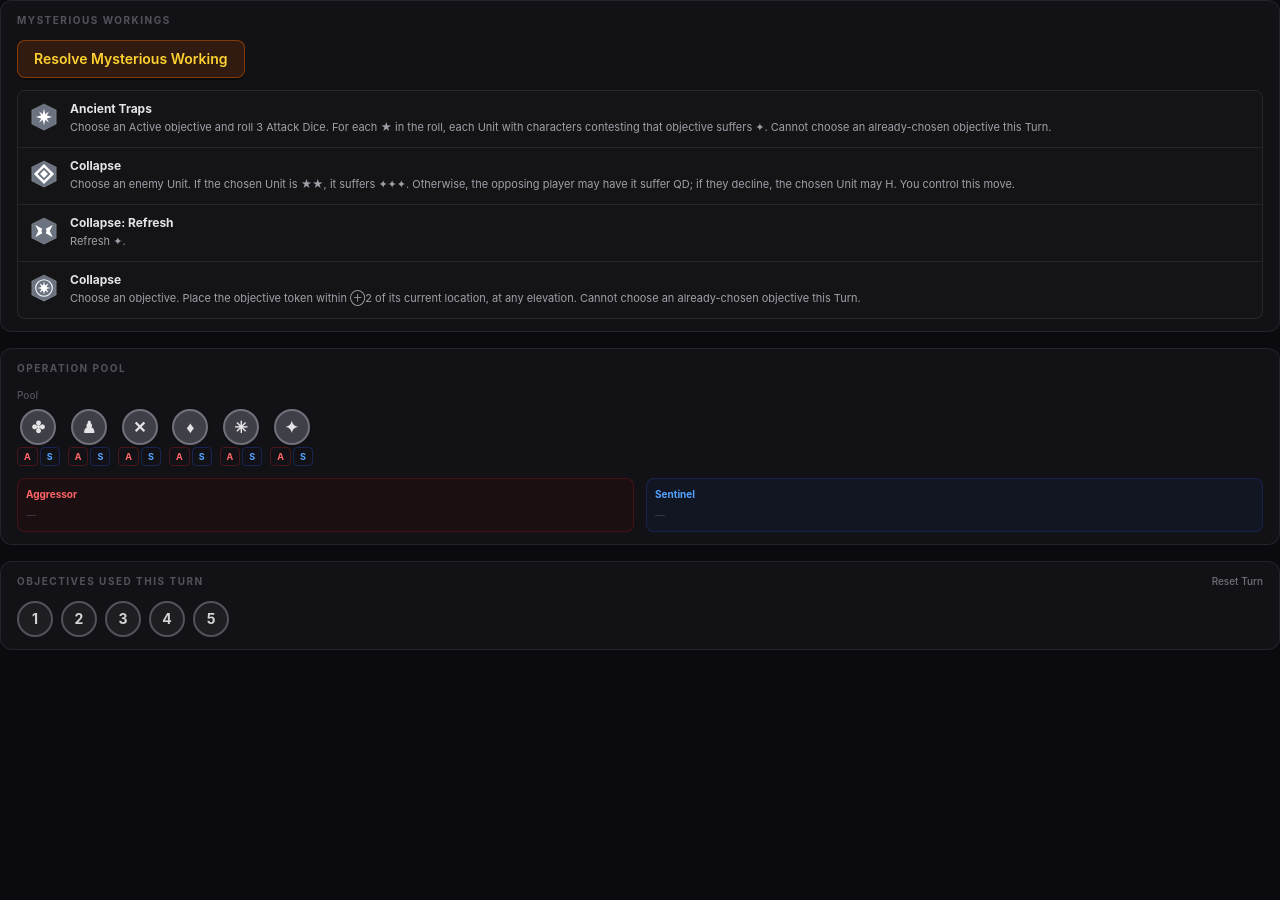
ExploreTheRuins › Clear button dismisses the die result
Click the button "Resolve Mysterious Working". click: (131, 59)
box: [17,40,244,78]
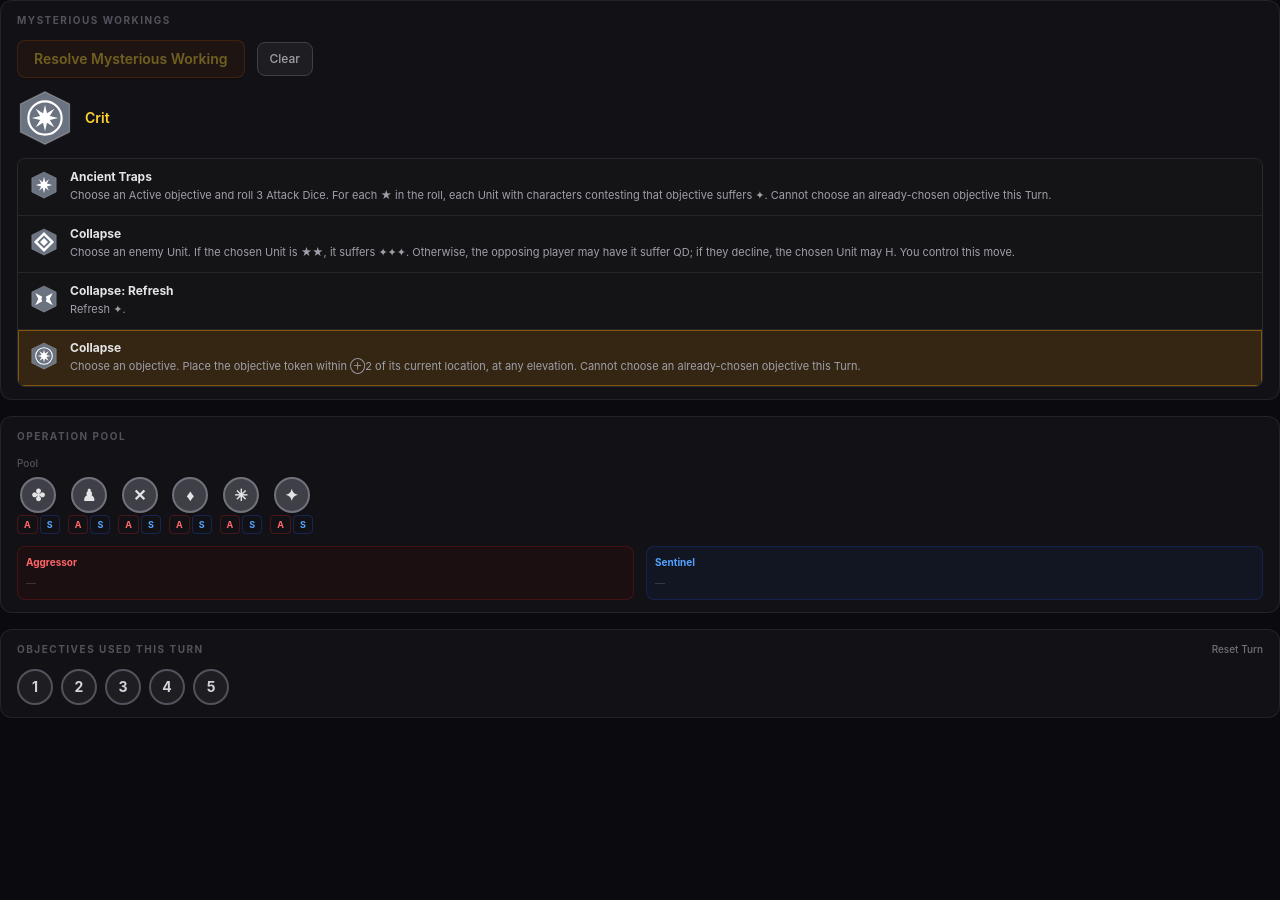
Result: the button "Clear" is shown
Click the button "Clear". click: (285, 59)
box: [256,42,313,76]
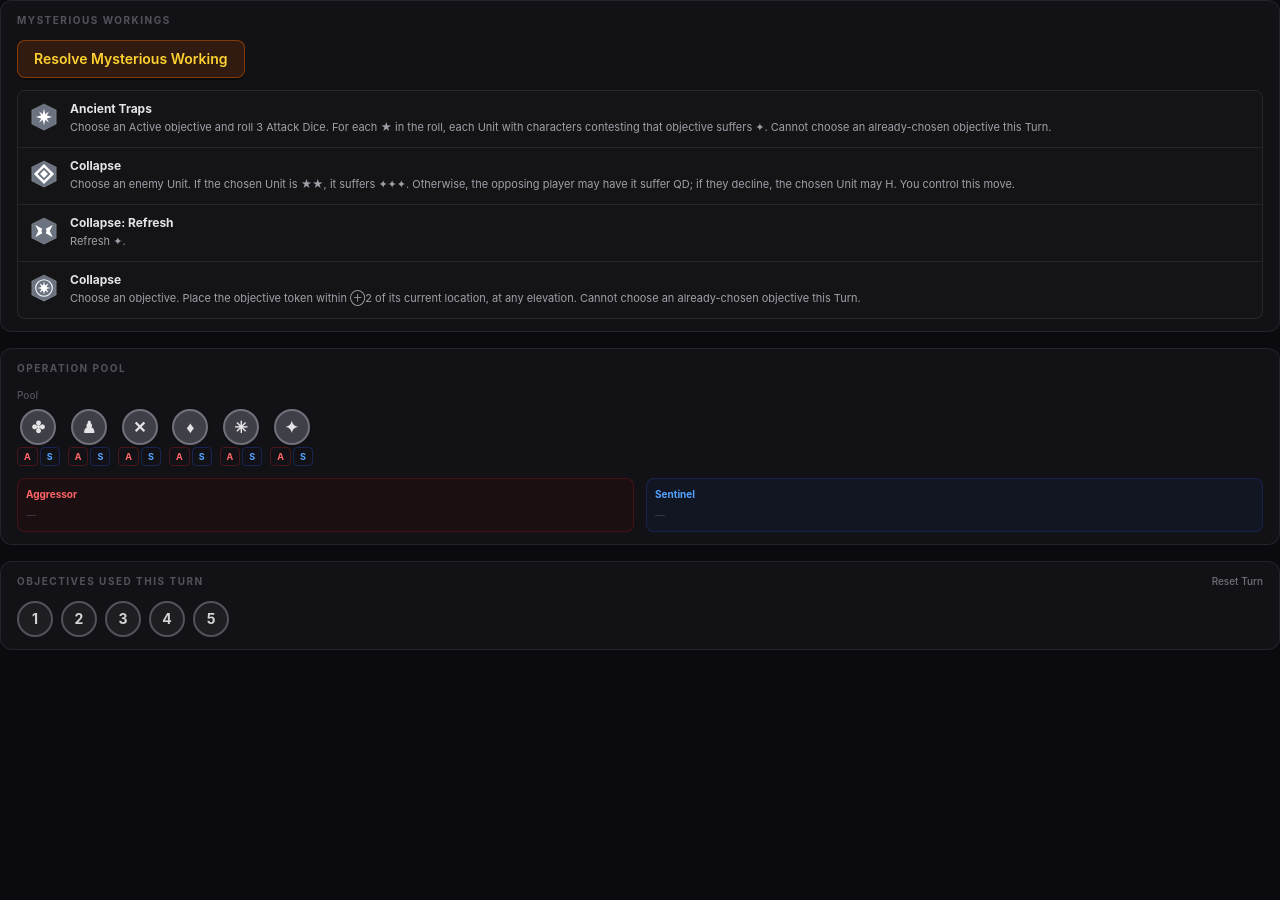
Result: the button "Resolve Mysterious Working" is enabled at [17,40,244,78]
